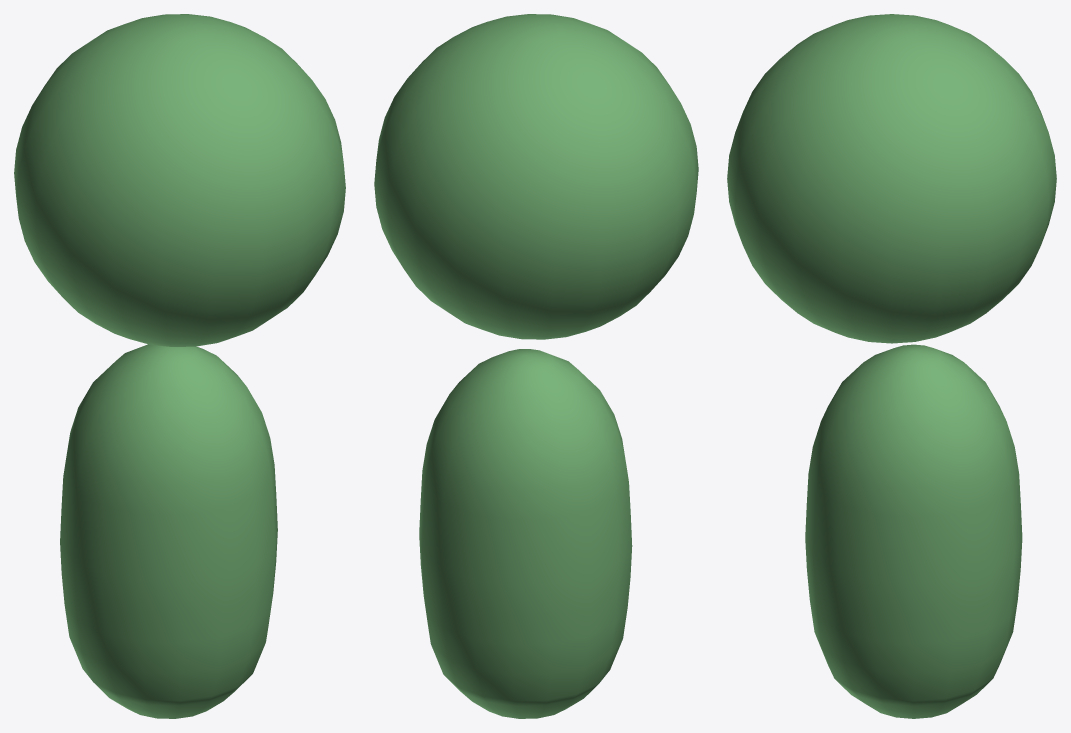
Rendered from avatarBody.fbx.
The picture shows the model from 3 angles, left to right: view 1: azimuth 30°, elevation 25°; view 2: azimuth 150°, elevation 25°; view 3: azimuth 270°, elevation 25°; orthographic projection. The views are drawn at different scales.
Visible parts, largest first — view 1: body; view 2: body; view 3: body.
Part boxes in pixels (box(x1,y1,x2,y2)): body: box(14, 14, 345, 718); body: box(374, 14, 698, 718); body: box(727, 14, 1056, 718).
Size of the model in its own units: 27.26 by 62.26 by 27.26.
